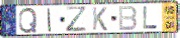B: (117, 5, 138, 32)
I: (47, 7, 53, 33)
K: (92, 7, 108, 32)
L: (142, 6, 159, 30)
Q: (18, 7, 38, 35)
Z: (65, 6, 89, 33)
